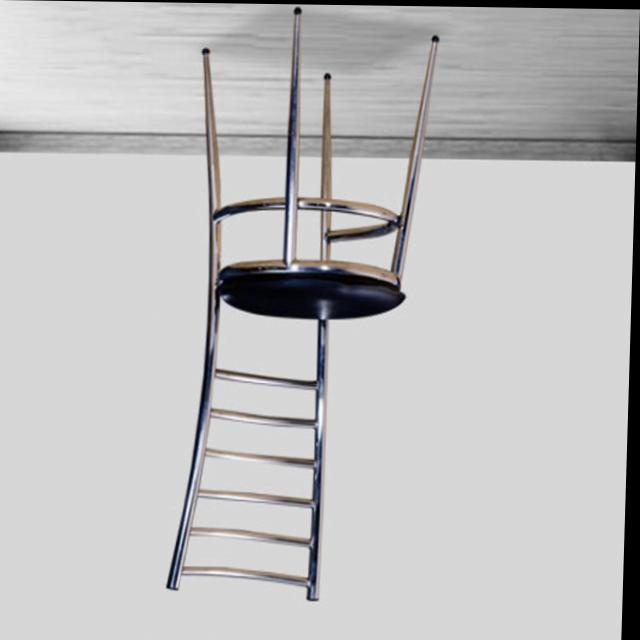Chair: (170, 2, 444, 605)
